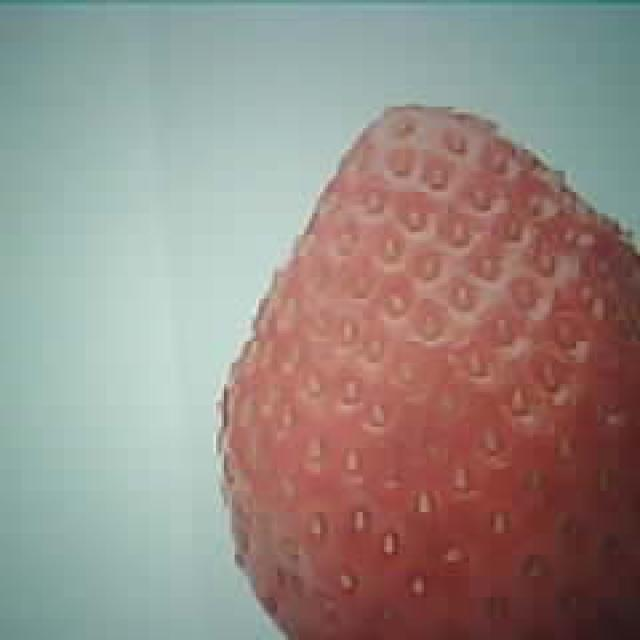ripe: (216, 106, 640, 640)
